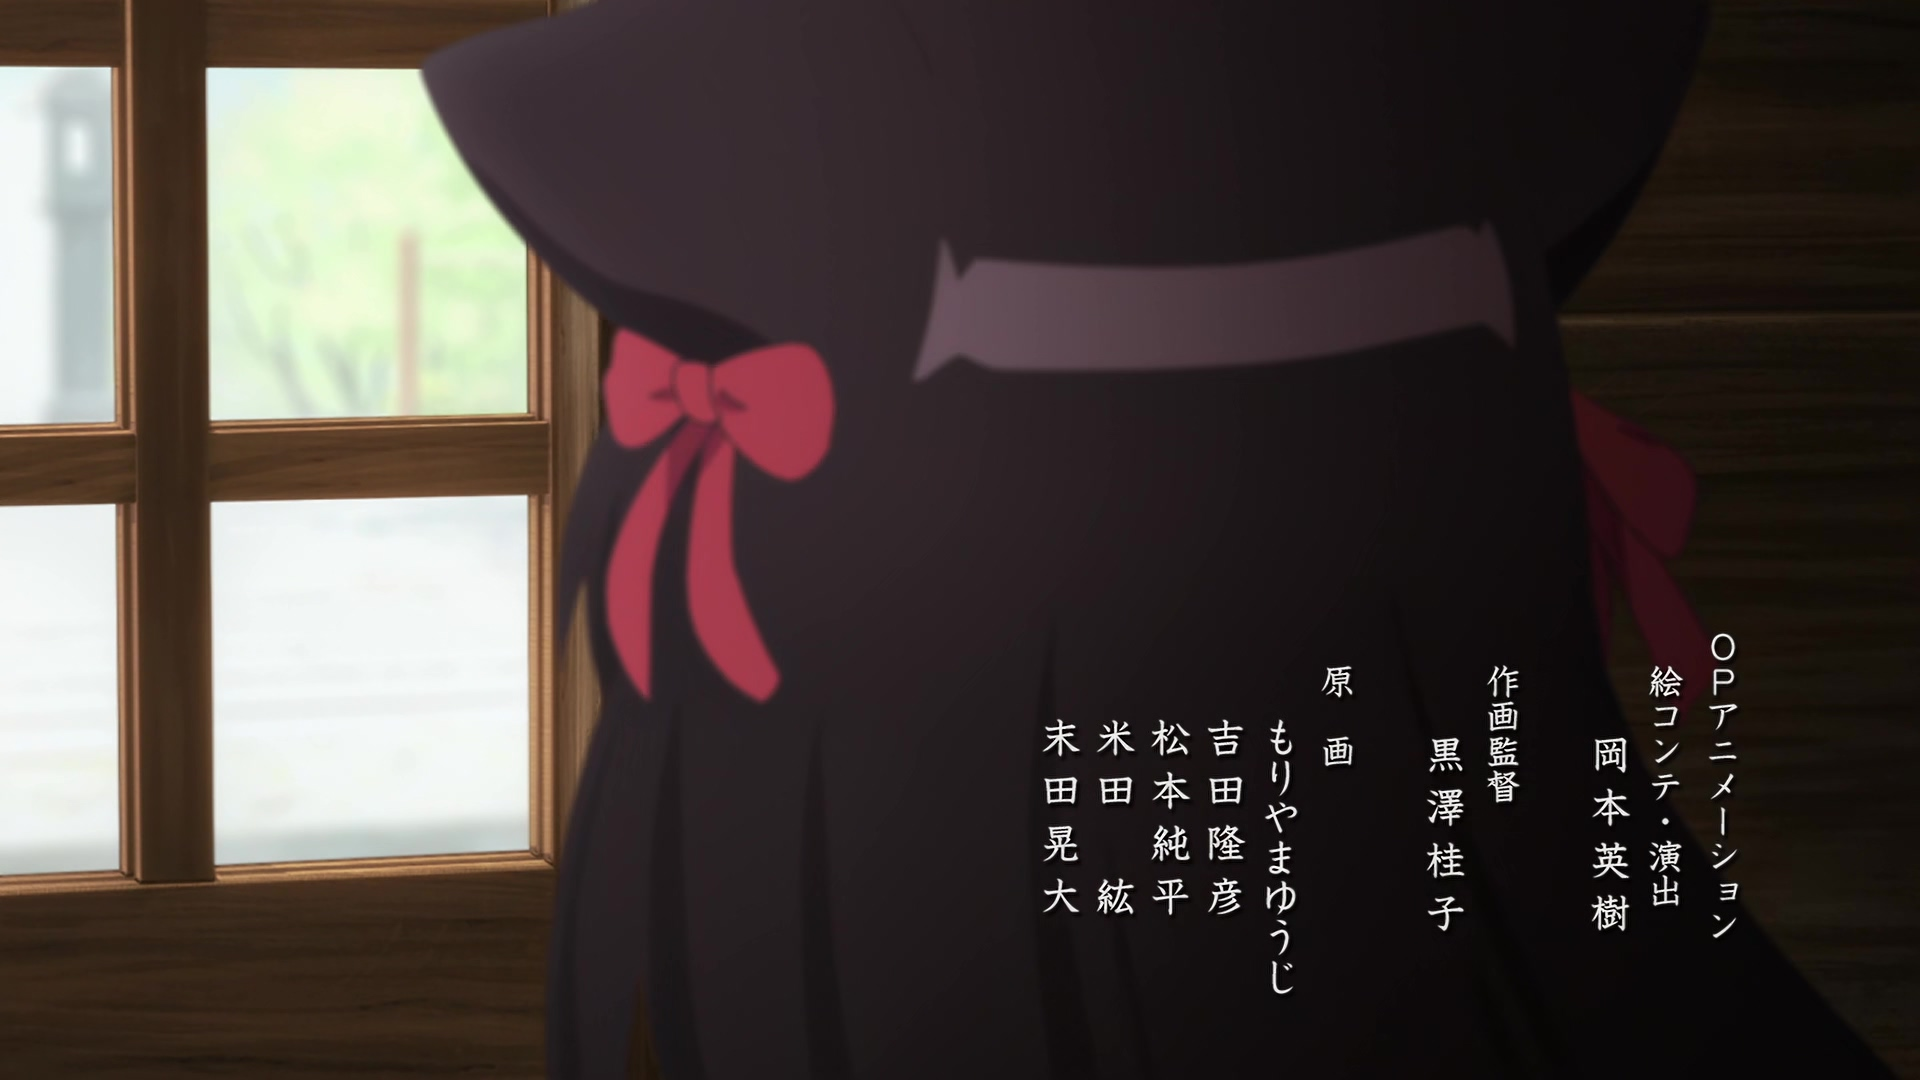樱: (418, 1, 1724, 1080)
